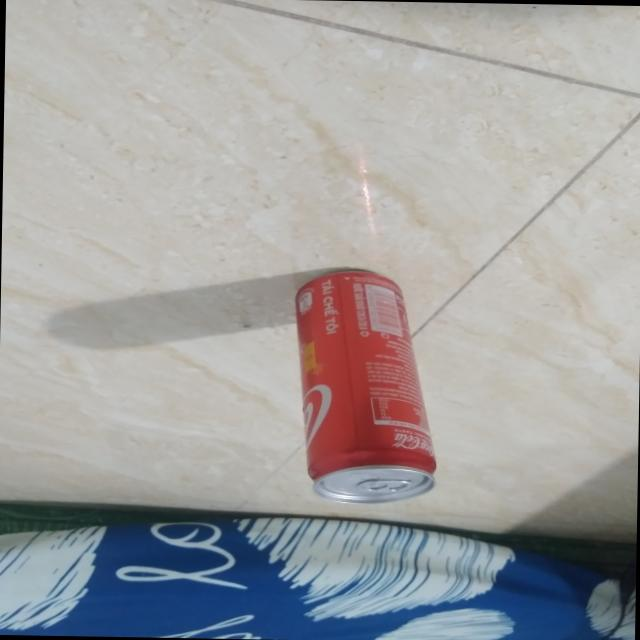cocacola: (250, 252, 471, 512)
